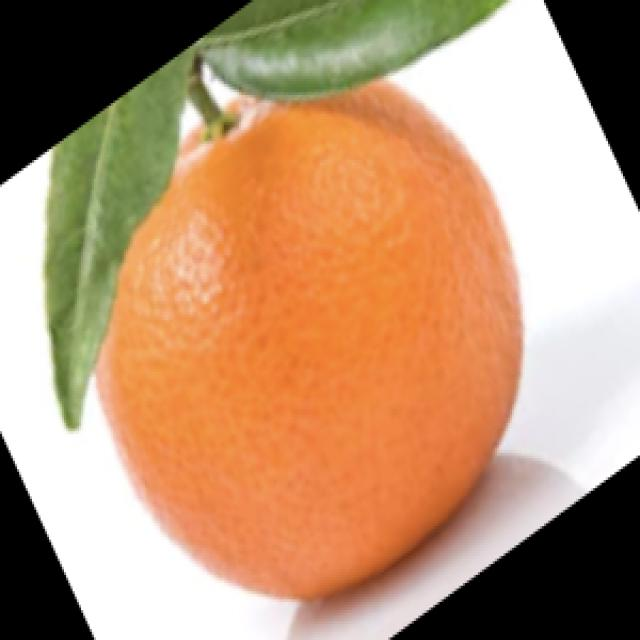fresh: (29, 4, 541, 620)
